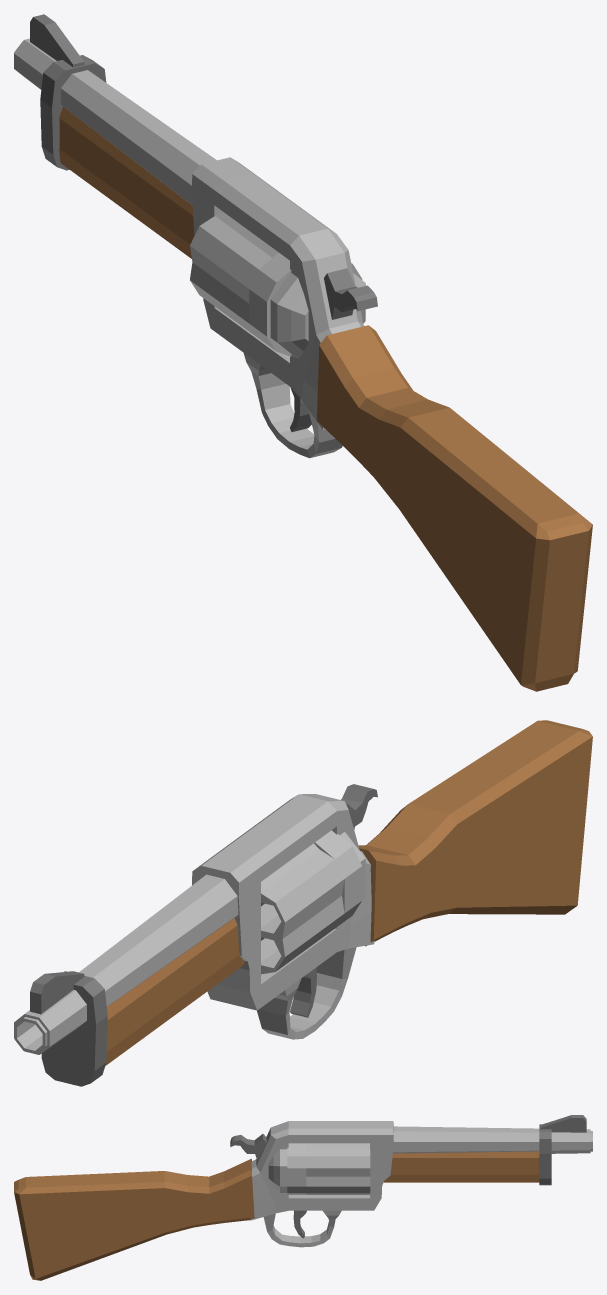
File: Revolver-Rifles-Short.fbx
The picture shows the model from 3 angles, top to bottom: view 1: azimuth 30°, elevation 25°; view 2: azimuth 150°, elevation 25°; view 3: azimuth 270°, elevation 25°; orthographic projection. The views are drawn at different scales.
Parts seen in each view (by area): view 1: Shotgun_A.003; view 2: Shotgun_A.003; view 3: Shotgun_A.003.
Boxes of the visible parts, x1=… form: Shotgun_A.003: x1=14, y1=14, x2=592, y2=691; Shotgun_A.003: x1=14, y1=720, x2=592, y2=1086; Shotgun_A.003: x1=14, y1=1115, x2=592, y2=1280.
Bounding box in the file's own units: 98.9 × 294 × 970.
